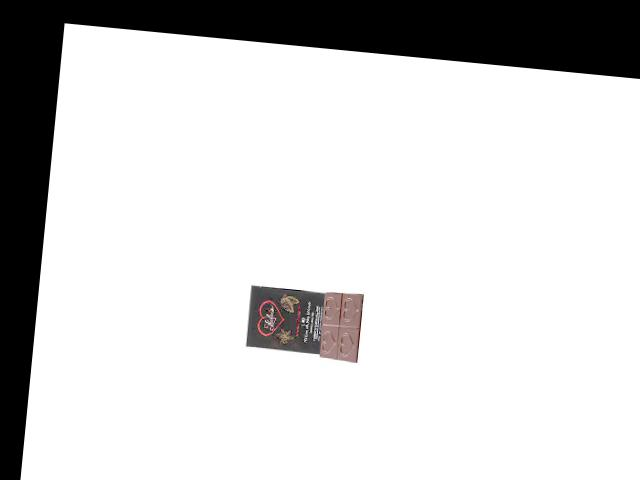chocolate: (243, 281, 368, 368)
